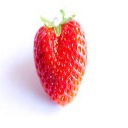strawberry: (31, 11, 88, 106)
